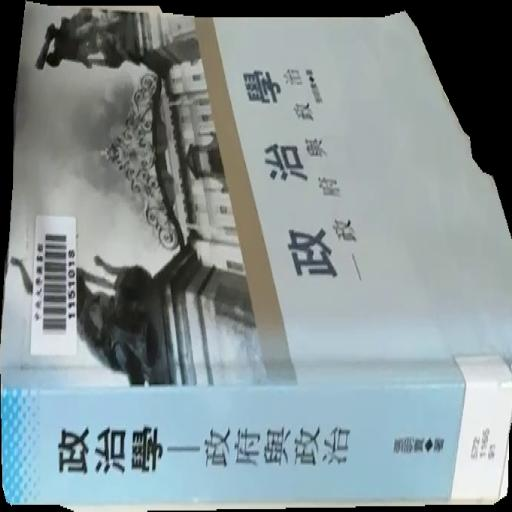flat: (1, 1, 512, 512)
